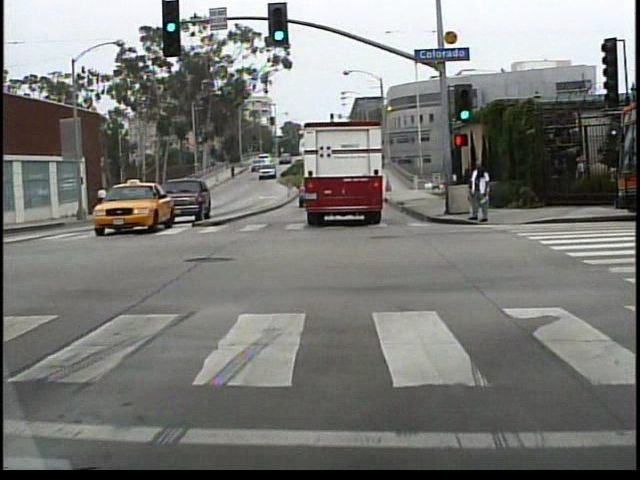person: (465, 162, 491, 225), (98, 184, 121, 216)
